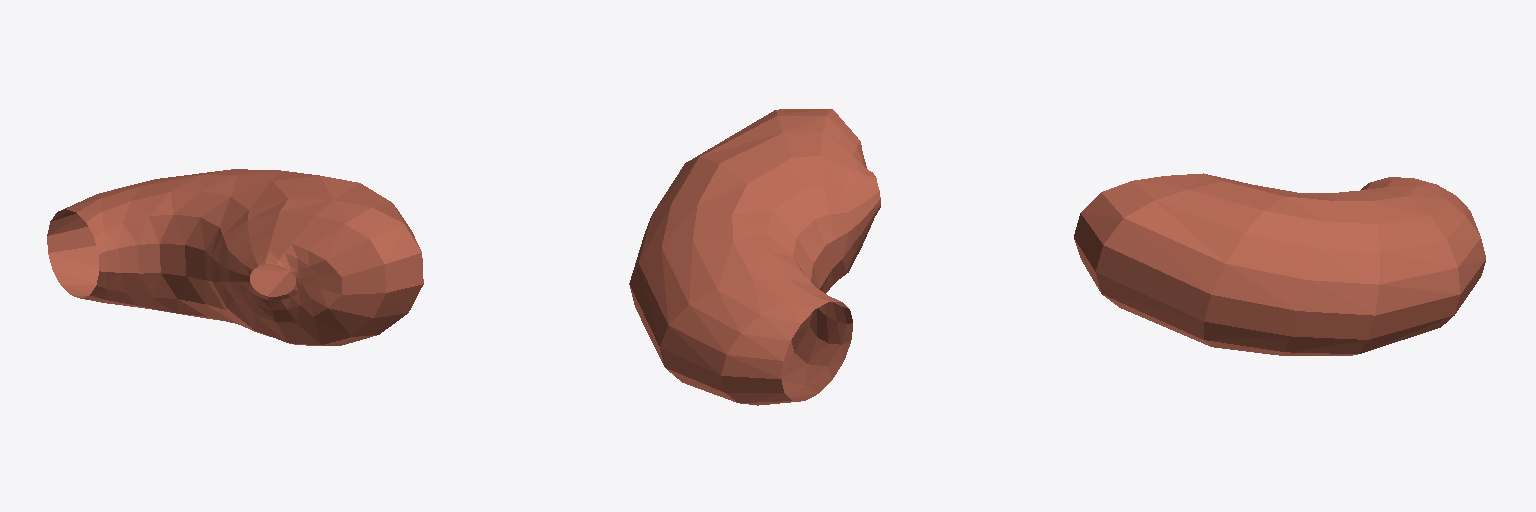
File: fundus_old.obj
The picture shows the model from 3 angles: view 1: azimuth 30°, elevation 25°; view 2: azimuth 150°, elevation 25°; view 3: azimuth 270°, elevation 25°; orthographic projection.
Parts seen in each view (by area): view 1: fundus_old_fundus.004; view 2: fundus_old_fundus.004; view 3: fundus_old_fundus.004.
Boxes of the visible parts, x1=… form: fundus_old_fundus.004: x1=47, y1=169, x2=423, y2=345; fundus_old_fundus.004: x1=629, y1=109, x2=880, y2=405; fundus_old_fundus.004: x1=1074, y1=173, x2=1485, y2=355.
Size of the model in its own units: 12.83 by 8.33 by 18.88.